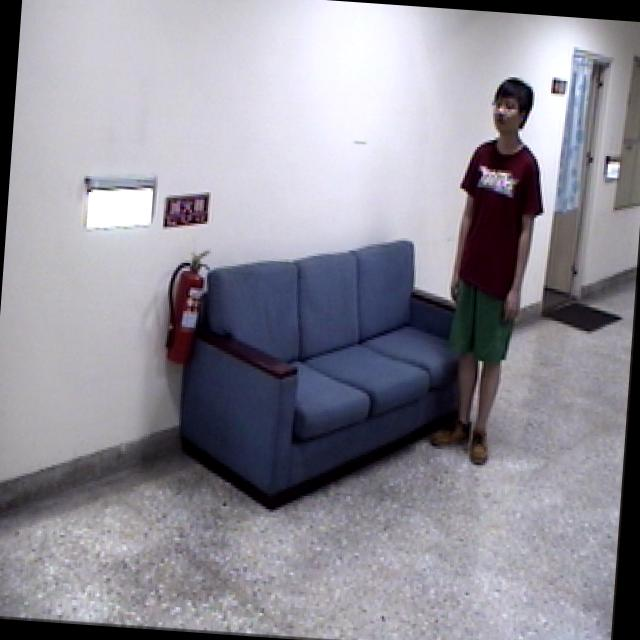stand: (430, 70, 567, 475)
